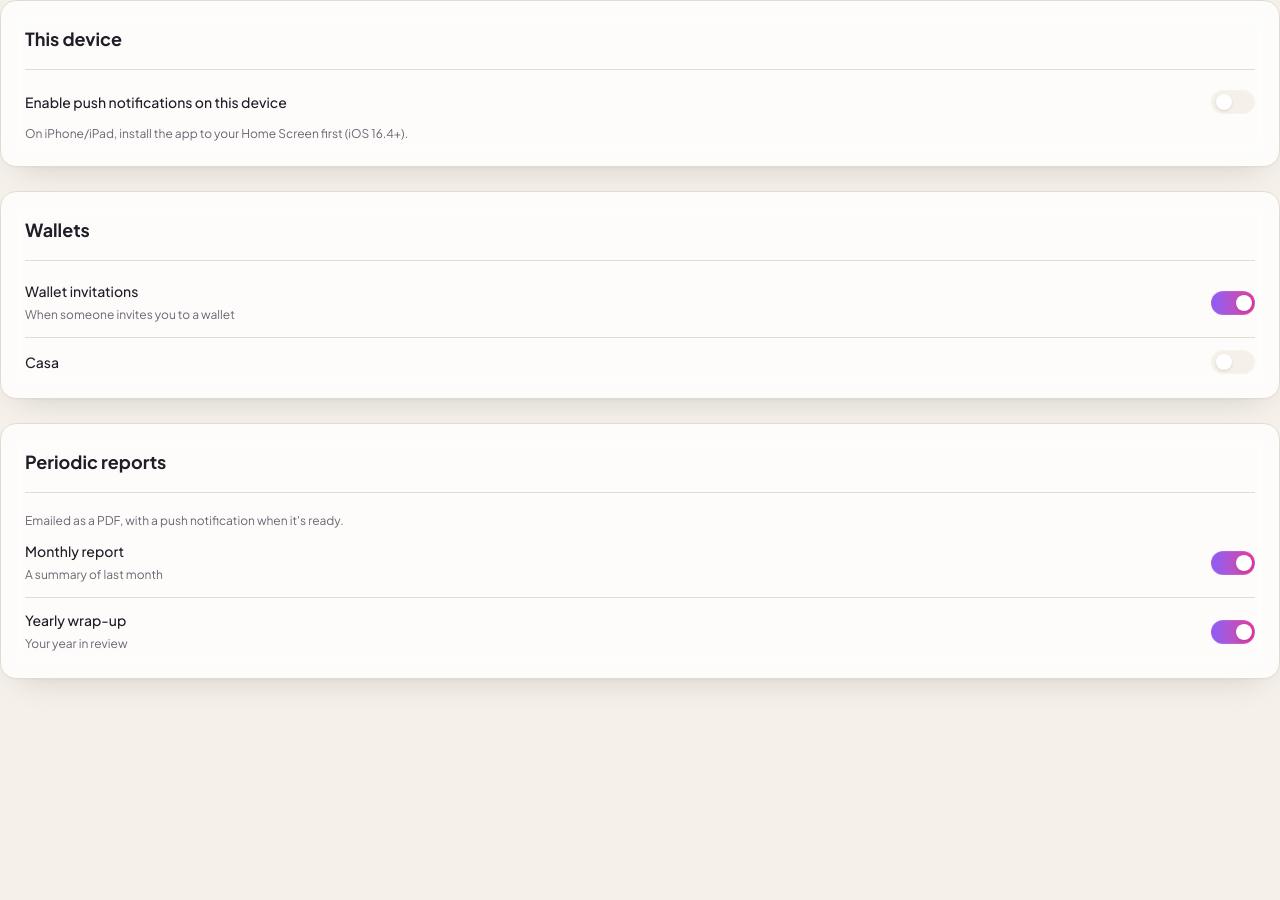
Test: NotificationsSection › turning a muted wallet on enables every event type and expands it
expect the text "Casa" is shown: met, box [25,353,59,371]
What coordinates should you click on to do the following:
click the switch named "Notifications for Casa"
I would click on:
 (1233, 362)
Its box is [1211,350,1255,374].
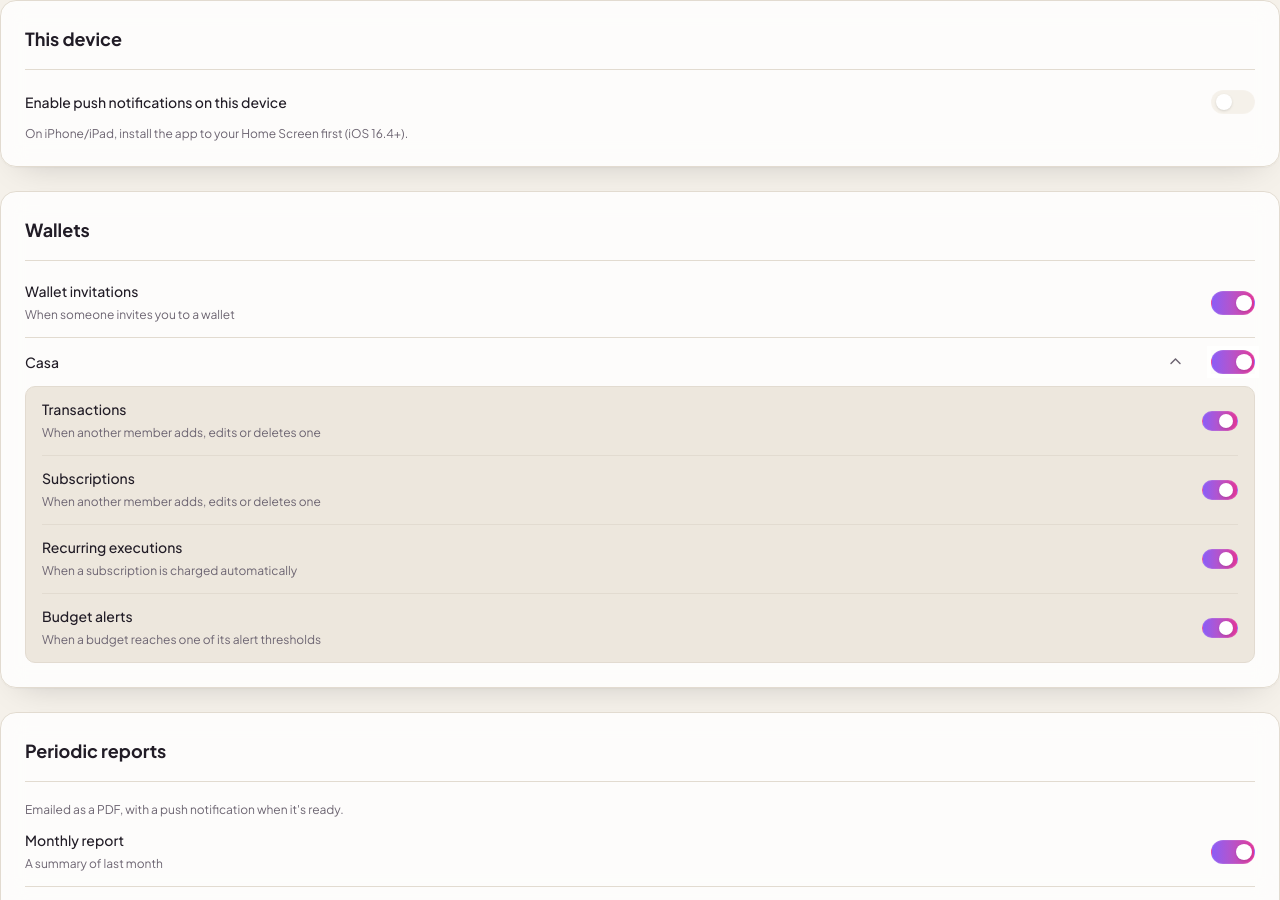
expect the switch named "Subscriptions" is checked: met, box [1202,480,1238,500]
